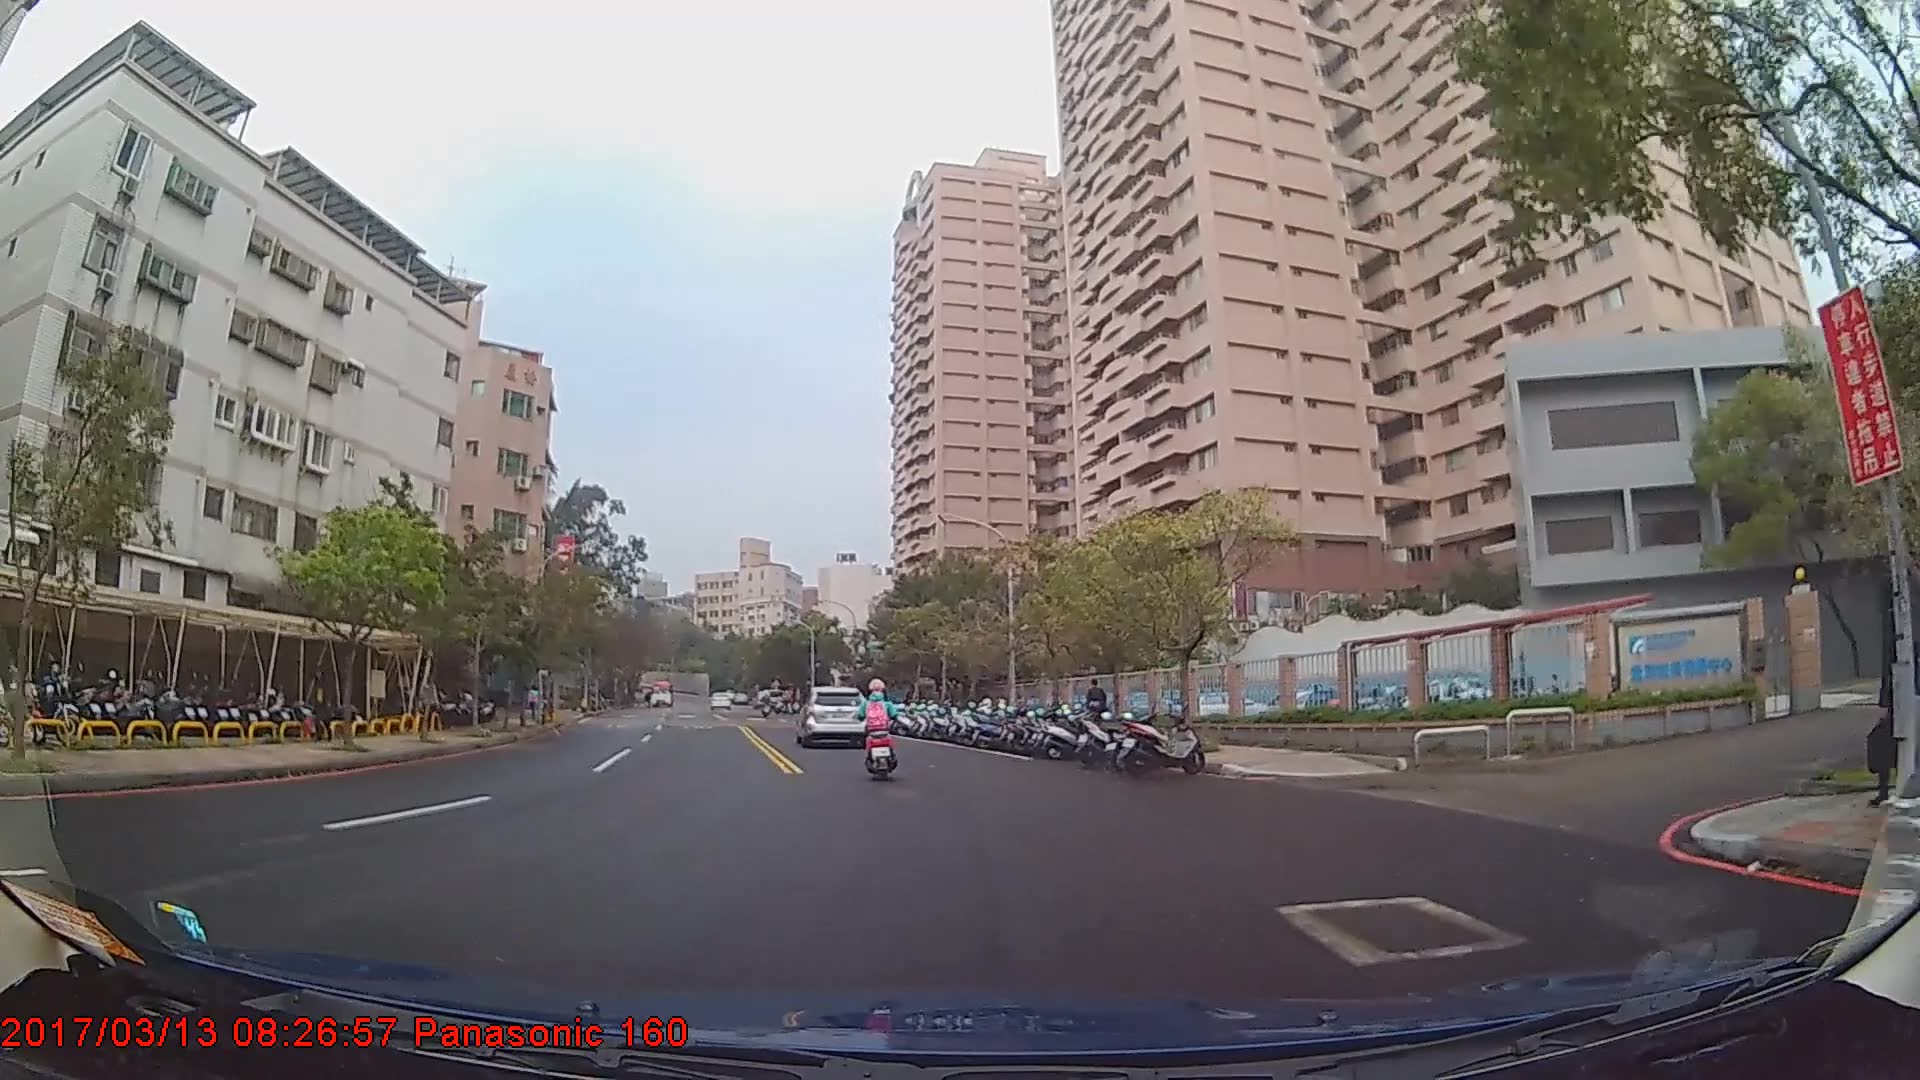pedestrian: (1859, 560, 1920, 819), (310, 662, 335, 738), (1087, 677, 1108, 739)
rider: (856, 675, 898, 769)
vehicle: (797, 683, 872, 746), (646, 679, 675, 708)
